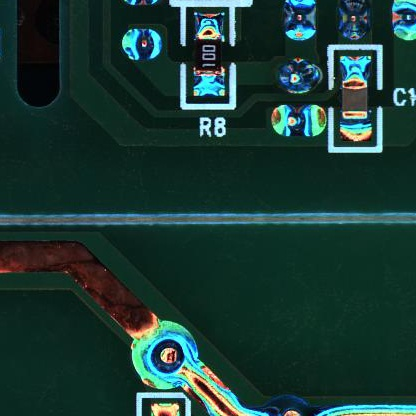spot: (130, 319, 198, 387), (270, 101, 327, 139), (276, 55, 324, 97), (334, 1, 372, 43), (122, 26, 163, 63), (281, 1, 316, 44), (391, 1, 414, 43)
